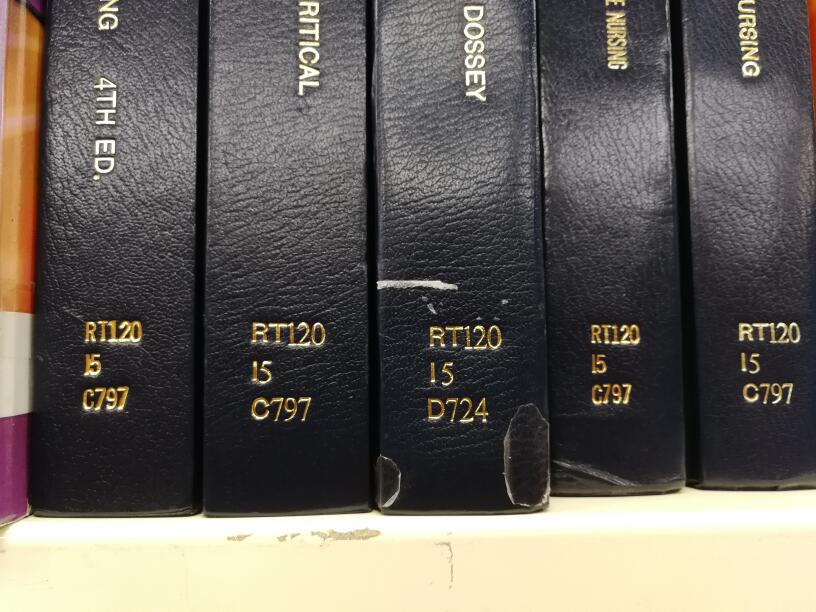booklabel: (243, 316, 332, 427), (421, 321, 509, 429), (76, 315, 150, 417), (732, 317, 806, 409), (586, 319, 646, 411)
